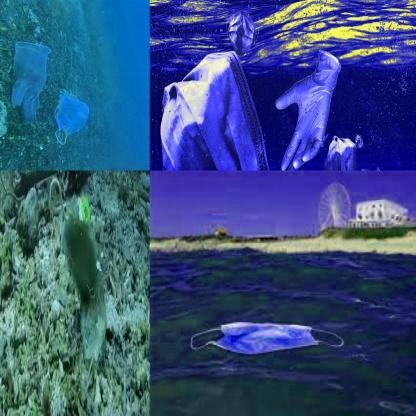Mask: (150, 45, 302, 170), (185, 306, 352, 382), (50, 177, 106, 389), (222, 2, 262, 58), (55, 88, 92, 148), (319, 133, 363, 170)
glove: (268, 36, 343, 170), (8, 40, 50, 124)
